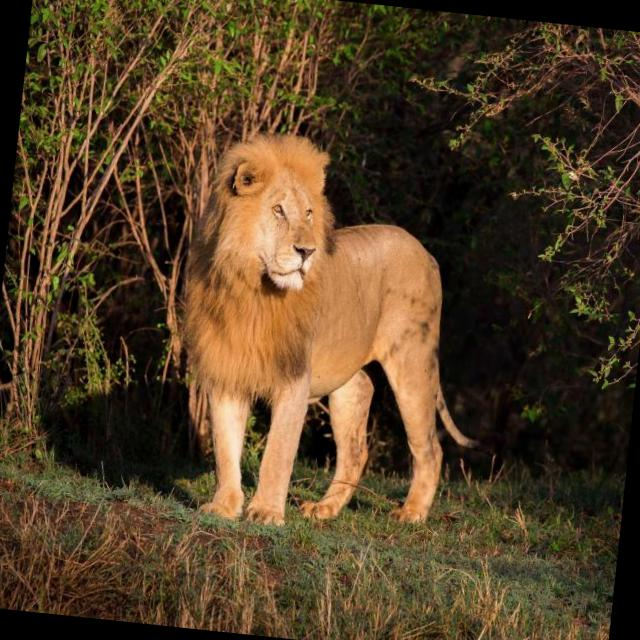lions: (109, 82, 583, 620)
